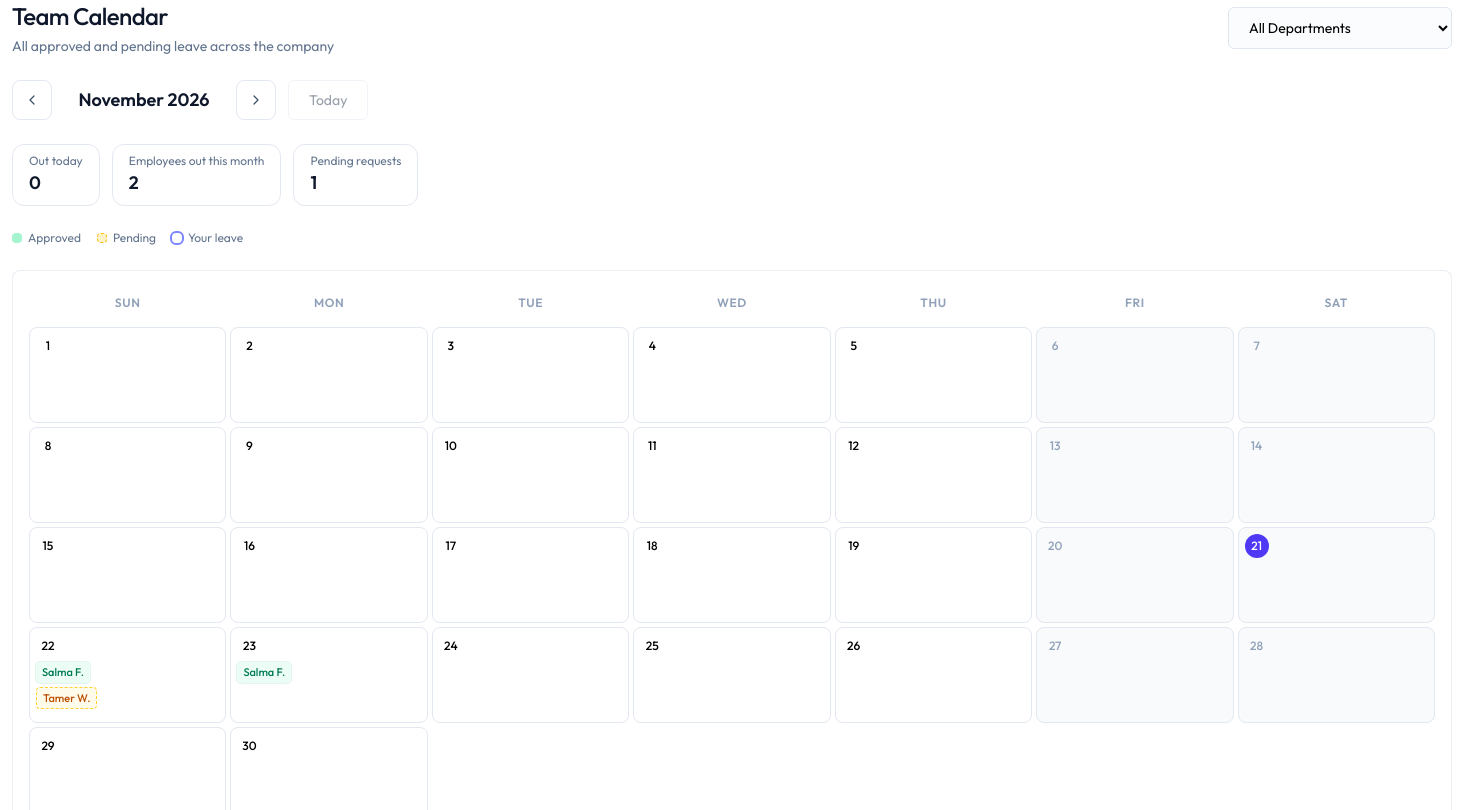
Scenario: TeamCalendarView › opens the details of the selected day
Click the button with aria-label "Sunday, Nov 22" at (128, 675), box [29, 627, 226, 723]
(page scrolled)
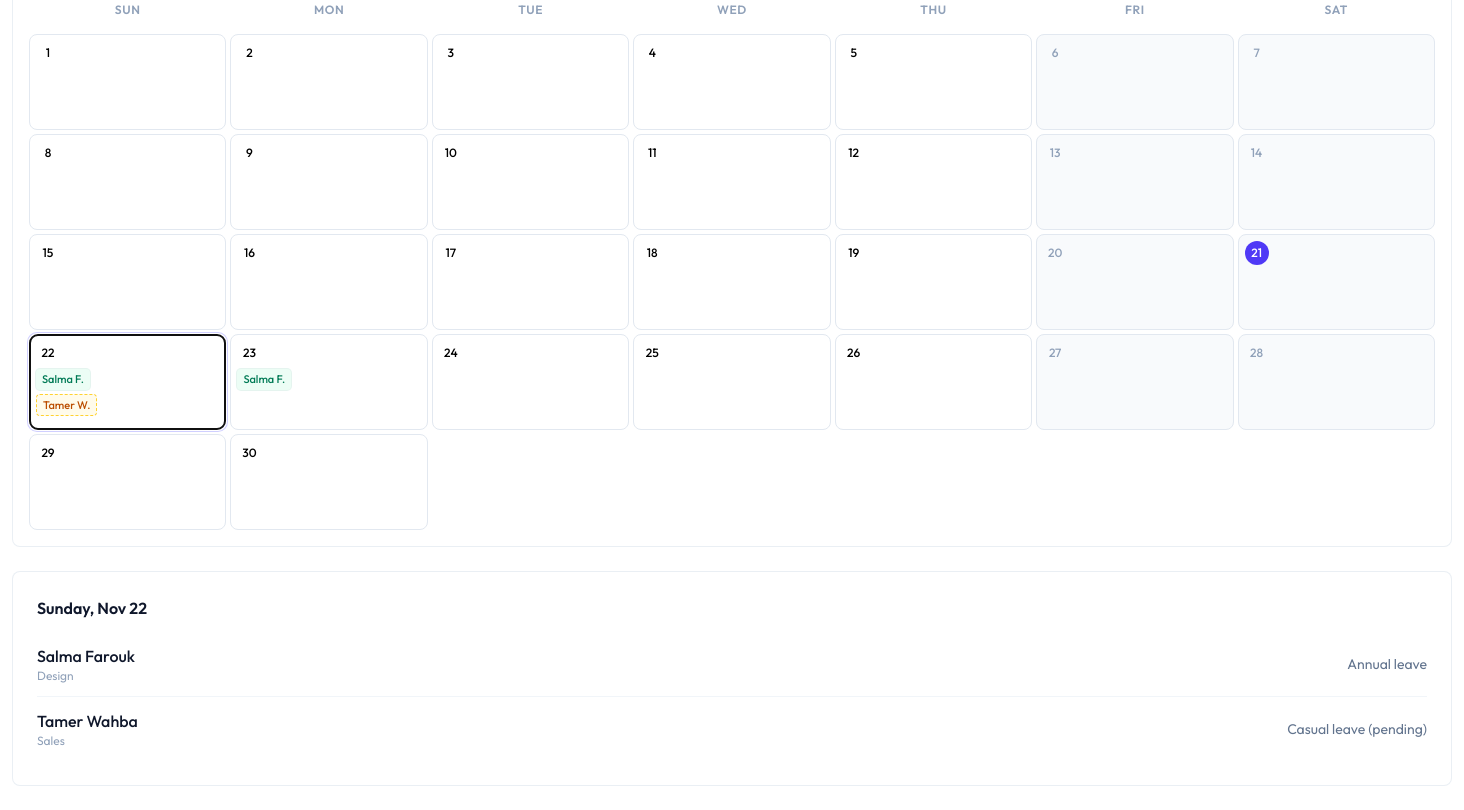
Now the text "Salma Farouk" is shown, box [37, 644, 135, 668]
Now the text "Annual leave" is shown, box [1347, 654, 1427, 674]
Now the text "Tamer Wahba" is shown, box [37, 709, 138, 733]
